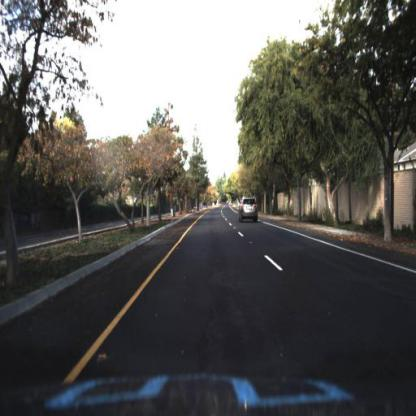car: (239, 195, 260, 225)
